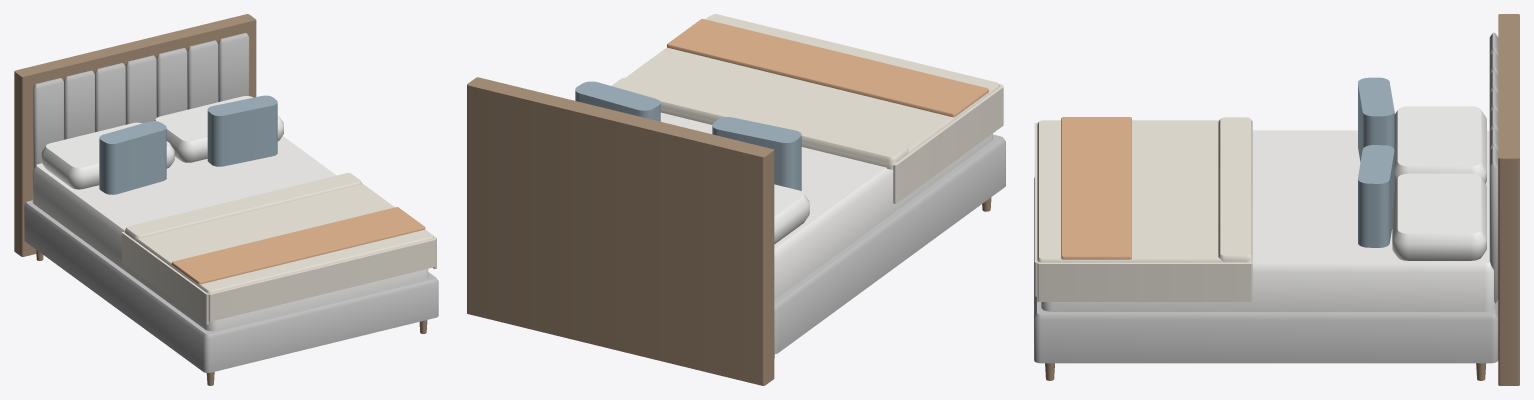
3 renders of one model, left to right at view 1: azimuth 30°, elevation 25°; view 2: azimuth 150°, elevation 25°; view 3: azimuth 270°, elevation 25°, orthographic. The views are drawn at different scales.
Visible parts, largest first — view 1: Giường ngủ Rộng nệm=1400; view 2: Giường ngủ Rộng nệm=1400; view 3: Giường ngủ Rộng nệm=1400.
Part boxes in pixels (x1,y1,x2,y2): Giường ngủ Rộng nệm=1400: (14, 14, 438, 385); Giường ngủ Rộng nệm=1400: (467, 14, 1005, 385); Giường ngủ Rộng nệm=1400: (1034, 14, 1519, 385).
Size of the model in its own units: 1.5 by 1.1 by 2.13.
